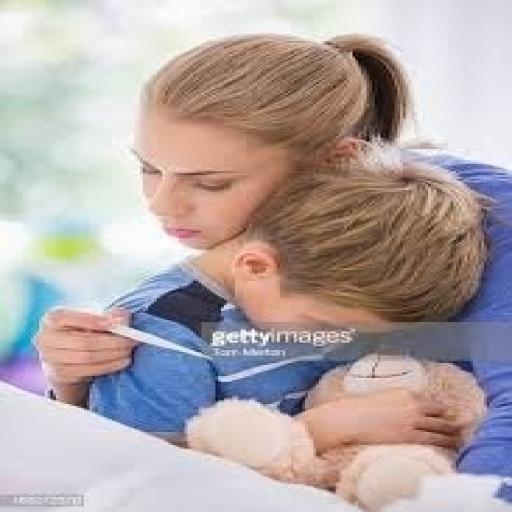hugging: (31, 30, 509, 490)
